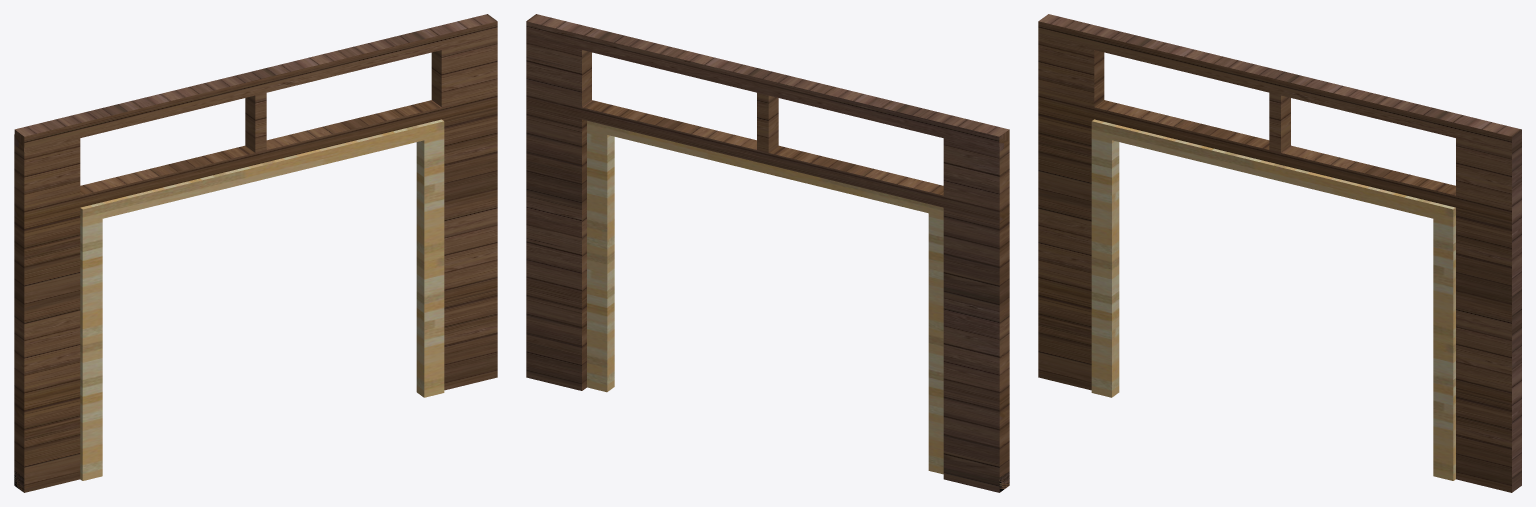
File: LIH0110025.fbx
3 renders of one model, left to right at view 1: azimuth 30°, elevation 25°; view 2: azimuth 150°, elevation 25°; view 3: azimuth 330°, elevation 25°, orthographic.
Visible parts, largest first — view 1: smLIH0110025; view 2: smLIH0110025; view 3: smLIH0110025.
Boxes of the visible parts, x1,y1,x2,y2 form: smLIH0110025: (14, 14, 497, 492); smLIH0110025: (526, 14, 1009, 492); smLIH0110025: (1038, 14, 1521, 492).
Size of the model in its own units: 570 by 409 by 26.02.
1 material, 1 textured.
